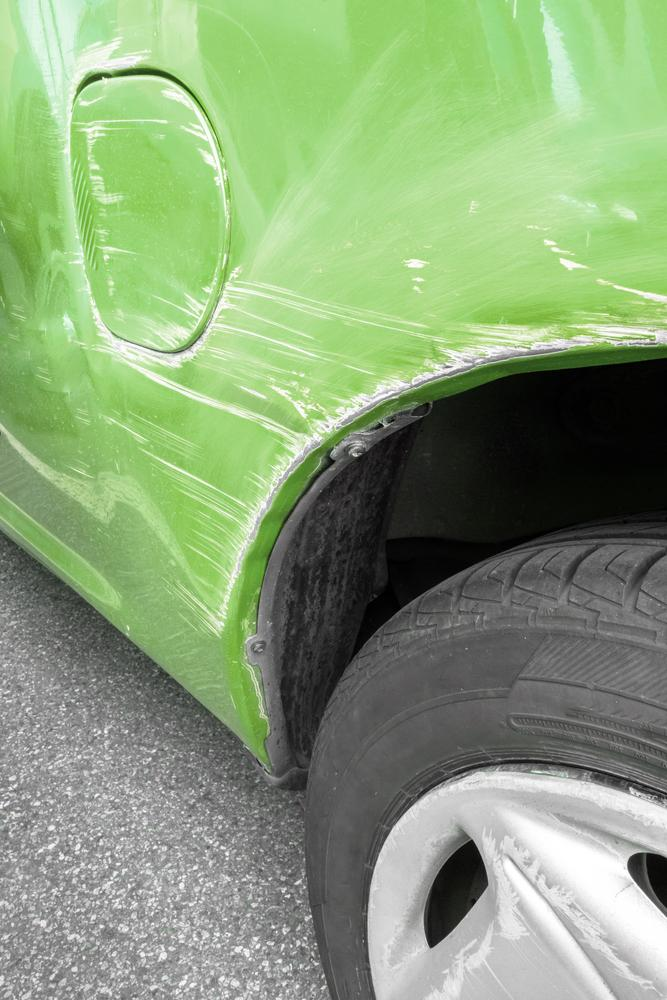scratch: (0, 218, 667, 640), (76, 74, 230, 343)
